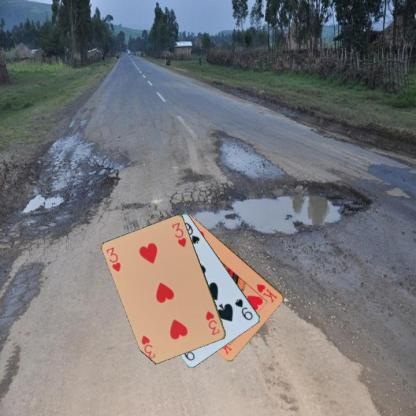3h: (104, 244, 122, 274), (203, 309, 221, 336)
9s: (232, 296, 254, 322)
Kh: (254, 281, 279, 304)
